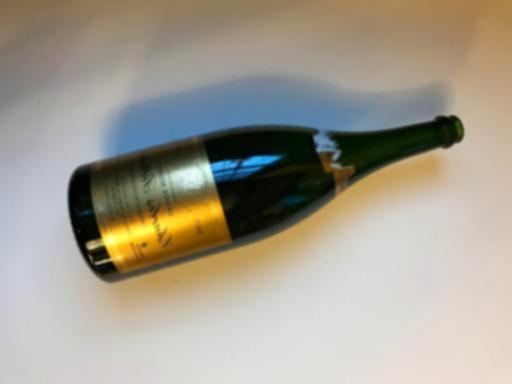alcohol: (68, 113, 465, 283)
glass: (68, 113, 465, 283)
sodocalcique: (68, 113, 465, 283)
